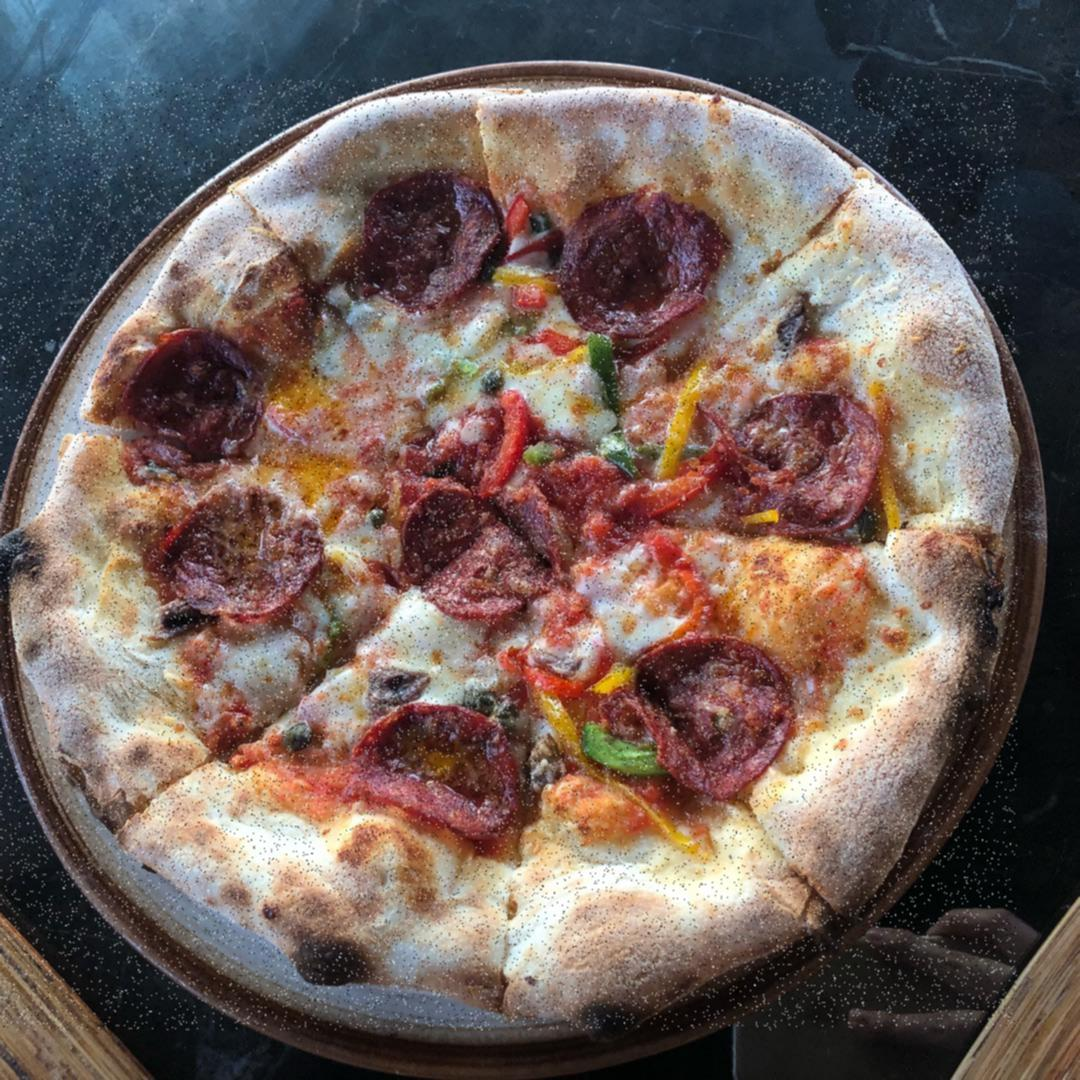Pepperoni: (629, 638, 791, 795), (353, 706, 515, 848), (400, 487, 568, 619), (157, 486, 320, 622), (561, 197, 715, 336), (729, 397, 874, 534), (122, 328, 261, 463), (365, 172, 502, 307)
Peppers: (532, 698, 666, 784), (594, 785, 712, 859), (636, 530, 719, 635), (498, 639, 620, 698), (613, 454, 722, 520), (503, 193, 560, 309), (658, 368, 713, 481), (480, 391, 534, 500)
Pizza: (0, 78, 1017, 1030)
